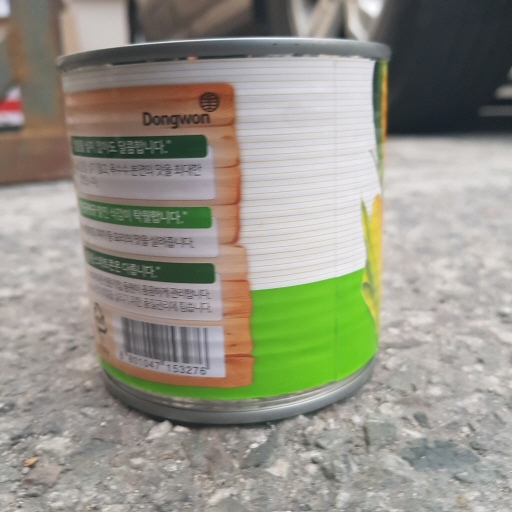Metal_1: (54, 39, 391, 426)
